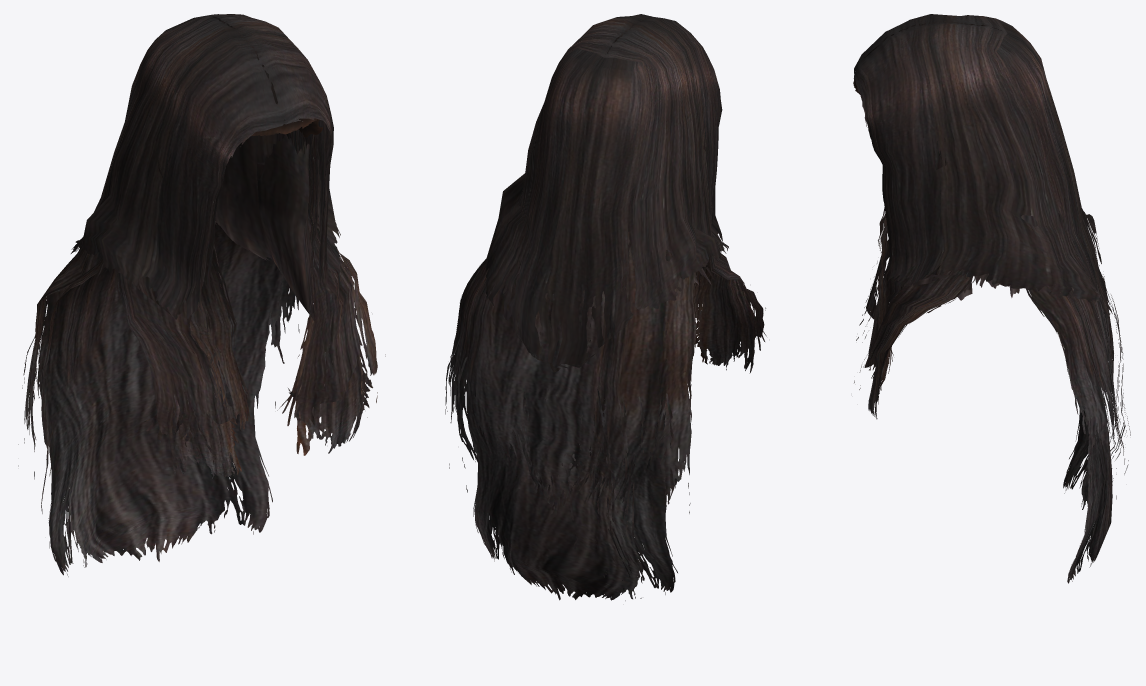
The model's file is mh_punkduck_alpha7_long.glb.
The picture shows the model from 3 angles, left to right: view 1: azimuth 30°, elevation 25°; view 2: azimuth 150°, elevation 25°; view 3: azimuth 270°, elevation 25°; orthographic projection. The views are drawn at different scales.
Parts seen in each view (by area): view 1: mh_punkduck_alpha7_long; view 2: mh_punkduck_alpha7_long; view 3: mh_punkduck_alpha7_long.
Boxes of the visible parts, box(x1,y1,x2,y2) form: mh_punkduck_alpha7_long: box(18, 14, 385, 576); mh_punkduck_alpha7_long: box(445, 14, 766, 600); mh_punkduck_alpha7_long: box(853, 14, 1130, 583).
Bounding box in the file's own units: 0.3859 × 0.7844 × 0.3766.
1 material, 1 textured.
